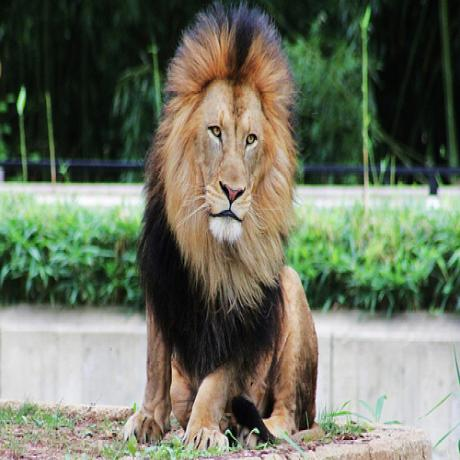Lion: (128, 0, 320, 454)
